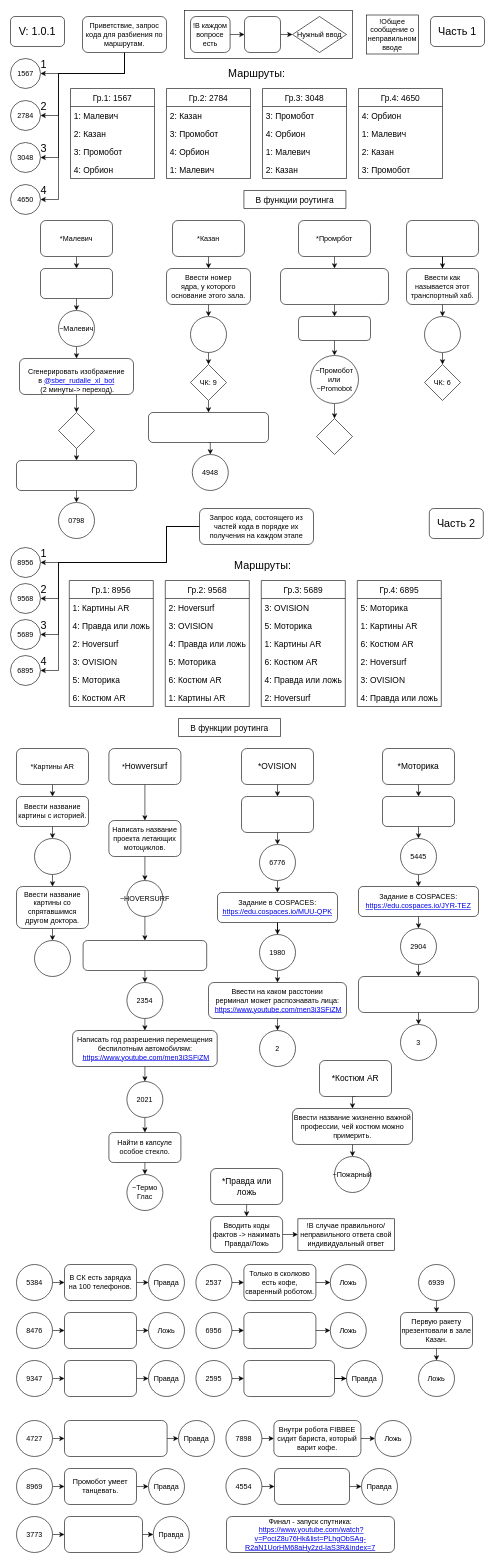
The diagram is 495 pixels wide and 1563 high, and some of its shapes have lost their labels. Here are the shapes that lost their labels. From the top down, the box of each, then its label:
(244, 16, 280, 52): Помощь бота
(406, 220, 478, 256): *Орбион
(40, 268, 112, 298): Найти капсулу имени художника.
(280, 268, 388, 304): Сфотографироваться с промоботом, отправить фото на почту: contact@inginium.ru
(190, 316, 226, 352): 1 или 2
(298, 316, 370, 340): Ввести имя робота
(424, 316, 460, 352): ~Орбион
(58, 412, 94, 448): ЧК: 8
(148, 412, 268, 442): Задание в COSPACES: https://edu.cospaces.io/KMD-ZEG
(316, 418, 352, 454): ЧК: 5
(16, 460, 136, 490): Задание в COSPACES: https://edu.cospaces.io/XKL-GXM
(241, 796, 314, 832): Ввести код терминала лаборатории.
(382, 796, 454, 826): Ввестикод лаборатории.
(34, 838, 70, 874): ~Окно в прошлое
(34, 940, 70, 976): ~Физика света
(82, 940, 207, 970): Задание в COSPACES: https://edu.cospaces.io/QEW-HYM
(358, 976, 478, 1012): Ввести сколько недель делается протез: https://edu.cospaces.io/JYR-TEZ
(64, 1312, 136, 1348): Мыла из мух не существует.
(243, 1312, 316, 1348): В СК есть Блиндозер.
(64, 1360, 136, 1396): Кубик может помочь выспаться.
(243, 1360, 334, 1396): Есть искусственный интелект, исправляющий прикус за полгода.
(64, 1420, 167, 1456): В СК есть устройство для создания индивидуального дизайна обуви за 3 ч.
(274, 1468, 350, 1504): В Сколково есть стекло, которое заменяет батарею.
(64, 1516, 142, 1552): Транспортировачная коляска может сама спускаться по лестнице.
